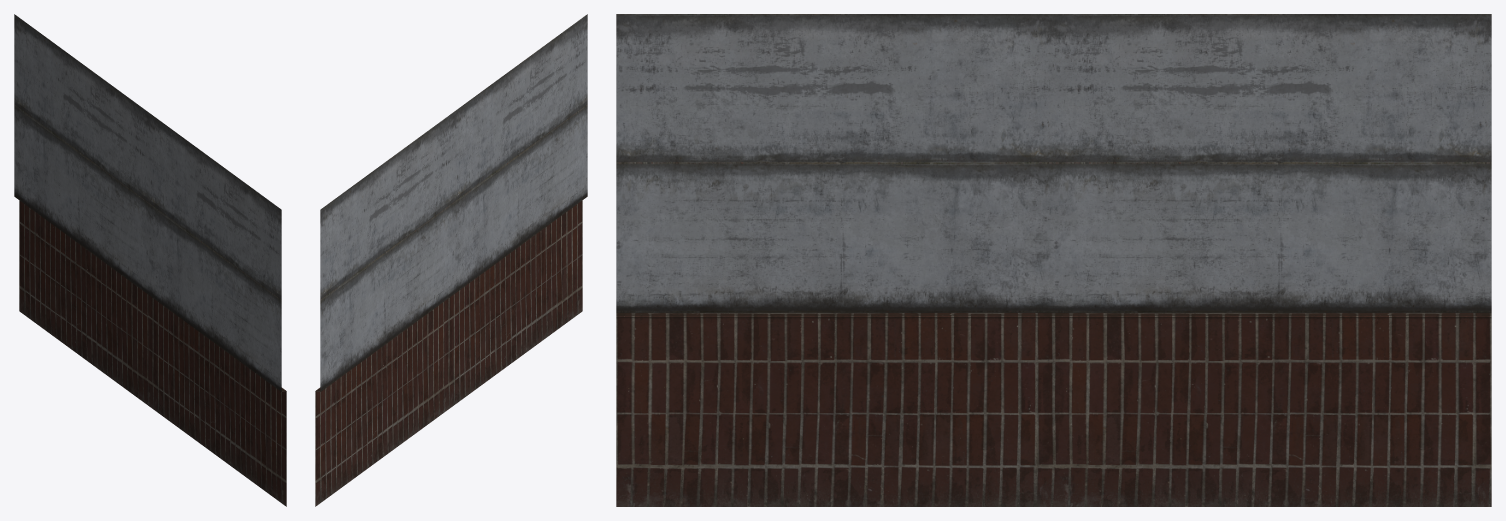
File: Psychiatric_Ward_Guards_Room_Interior_Wall_4m.glb
3 views of the same model, side by side, from view 1: azimuth 30°, elevation 25°; view 2: azimuth 150°, elevation 25°; view 3: azimuth 270°, elevation 25° (orthographic). The views are drawn at different scales.
Parts seen in each view (by area): view 1: Psychiatric_Ward_Guards_Room_Interior_Wall_4m; view 2: Psychiatric_Ward_Guards_Room_Interior_Wall_4m; view 3: Psychiatric_Ward_Guards_Room_Interior_Wall_4m.
Part boxes in pixels (box(x1,y1,x2,y2)): Psychiatric_Ward_Guards_Room_Interior_Wall_4m: box(14, 14, 286, 506); Psychiatric_Ward_Guards_Room_Interior_Wall_4m: box(315, 14, 587, 506); Psychiatric_Ward_Guards_Room_Interior_Wall_4m: box(616, 14, 1491, 506).
Size of the model in its own units: 0.0437 by 2.47 by 4.
Materials: 1 (1 with a texture image).
